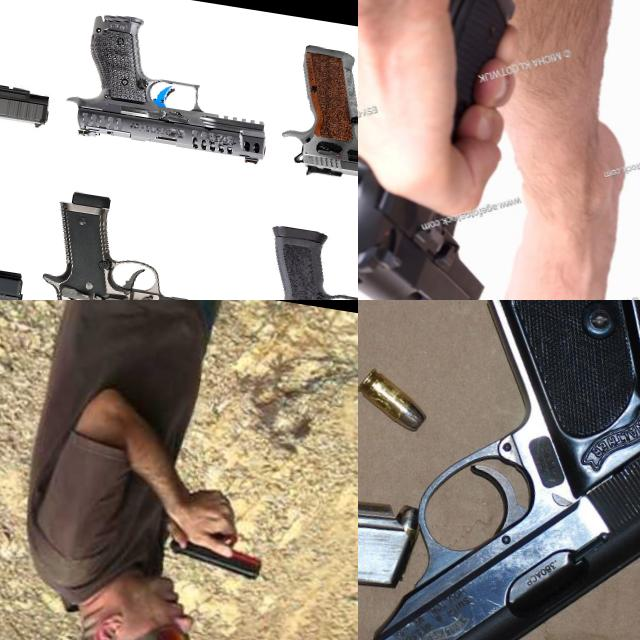handgun: (358, 300, 640, 640), (358, 0, 544, 300), (56, 5, 284, 166), (33, 183, 253, 300), (0, 148, 103, 300), (0, 0, 108, 129), (274, 38, 358, 200), (248, 217, 358, 300), (161, 510, 269, 584)
